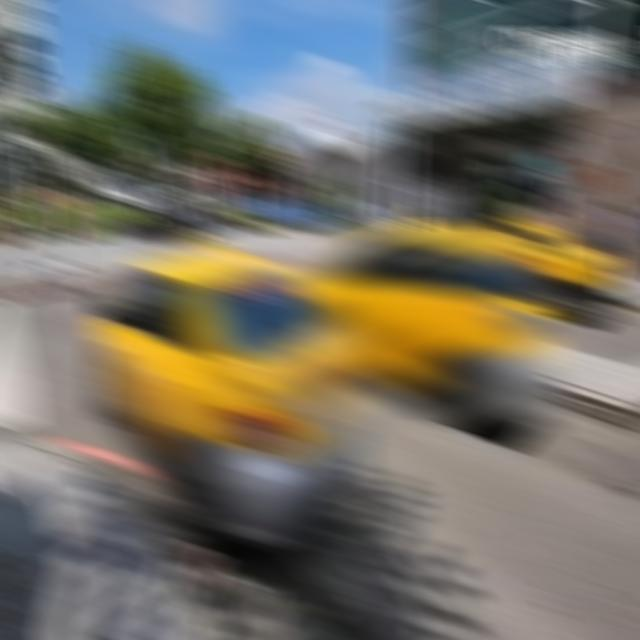Door: (299, 224, 561, 426), (492, 218, 616, 320)
Taxi: (90, 234, 370, 547)
